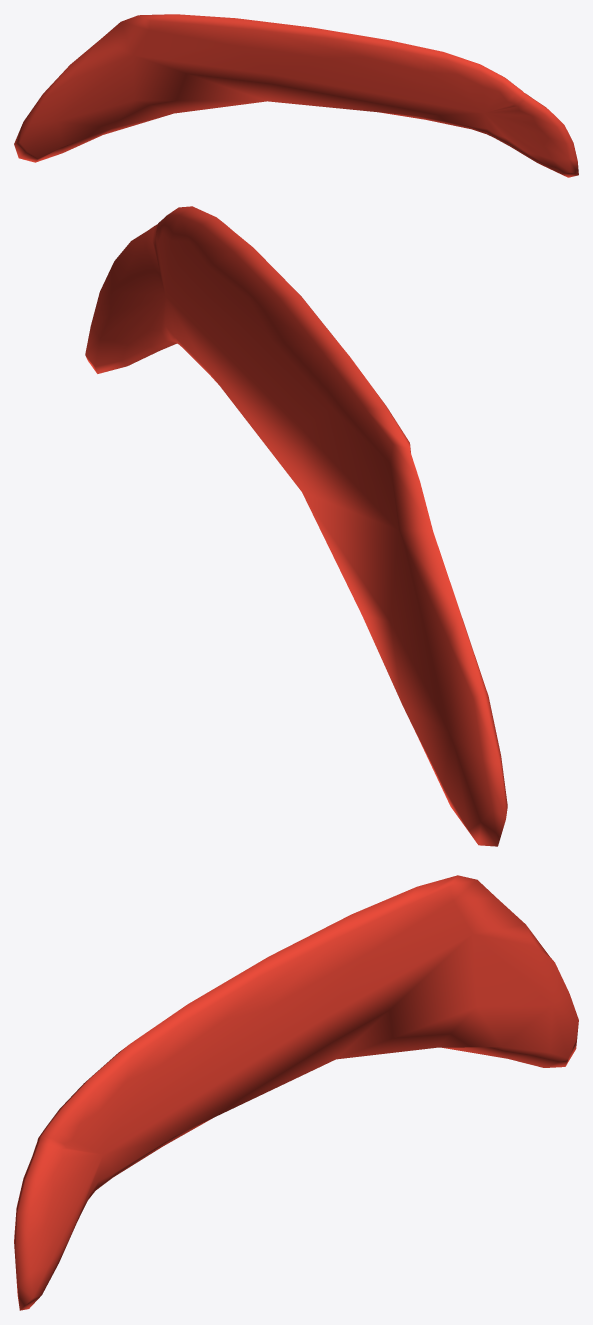
The model's file is Levator_anguli_oris_maxilla_right.glb.
The picture shows the model from 3 angles, top to bottom: view 1: azimuth 30°, elevation 25°; view 2: azimuth 150°, elevation 25°; view 3: azimuth 270°, elevation 25°; orthographic projection. The views are drawn at different scales.
Parts seen in each view (by area): view 1: Levator_anguli_oris_on_maxilla.r_Generated_Mesh_From_X3D.775; view 2: Levator_anguli_oris_on_maxilla.r_Generated_Mesh_From_X3D.775; view 3: Levator_anguli_oris_on_maxilla.r_Generated_Mesh_From_X3D.775.
Part boxes in pixels (x1=…): Levator_anguli_oris_on_maxilla.r_Generated_Mesh_From_X3D.775: x1=14, y1=14, x2=578, y2=177; Levator_anguli_oris_on_maxilla.r_Generated_Mesh_From_X3D.775: x1=85, y1=206, x2=507, y2=846; Levator_anguli_oris_on_maxilla.r_Generated_Mesh_From_X3D.775: x1=14, y1=875, x2=578, y2=1310.
Bounding box in the file's own units: 0.0124 × 0.00497 × 0.01.
